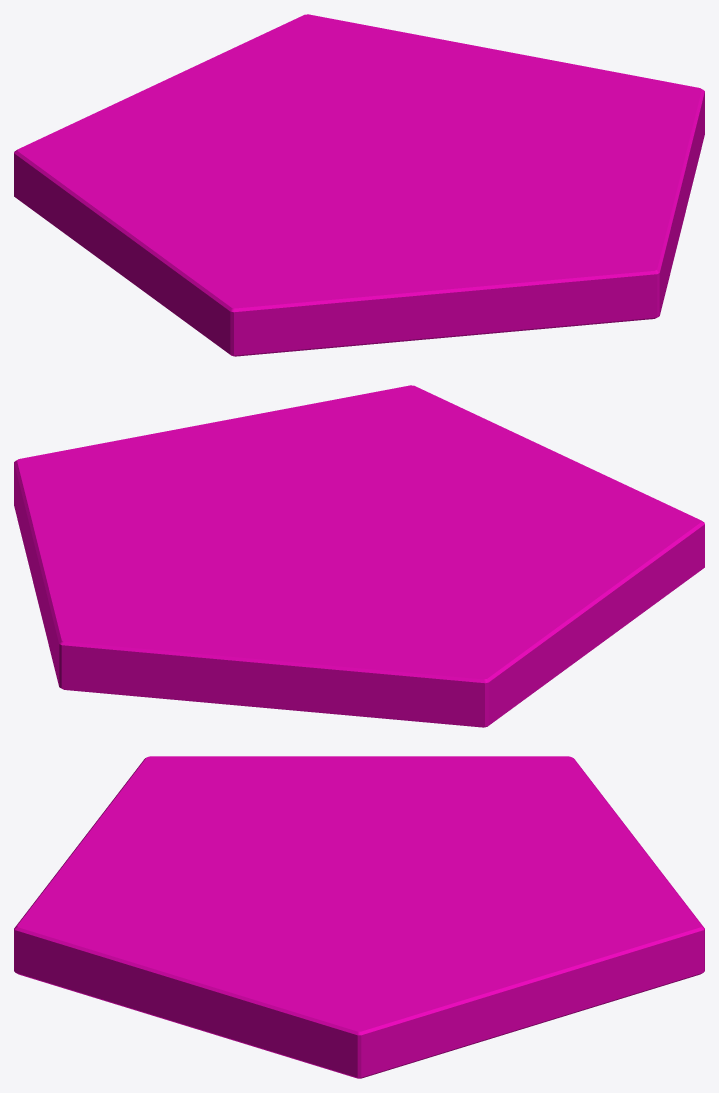
File: Board_Puzzle_04.fbx
The picture shows the model from 3 angles, top to bottom: view 1: azimuth 30°, elevation 25°; view 2: azimuth 150°, elevation 25°; view 3: azimuth 270°, elevation 25°; orthographic projection. The views are drawn at different scales.
Visible parts, largest first — view 1: Board_Puzzle_04; view 2: Board_Puzzle_04; view 3: Board_Puzzle_04.
Boxes of the visible parts, x1,y1,x2,y2 form: Board_Puzzle_04: (14, 14, 704, 356); Board_Puzzle_04: (14, 385, 704, 727); Board_Puzzle_04: (14, 756, 704, 1078).
Bounding box in the file's own units: 27.45 × 2.17 × 28.86.
